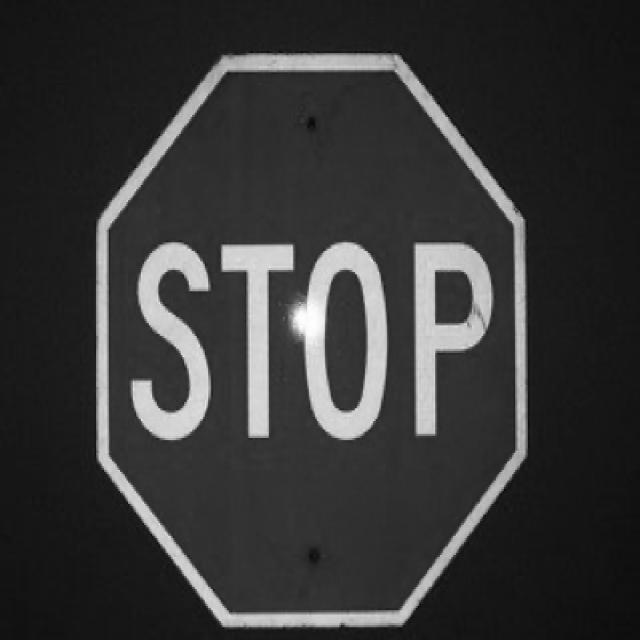Stop-signs: (99, 58, 527, 626)
